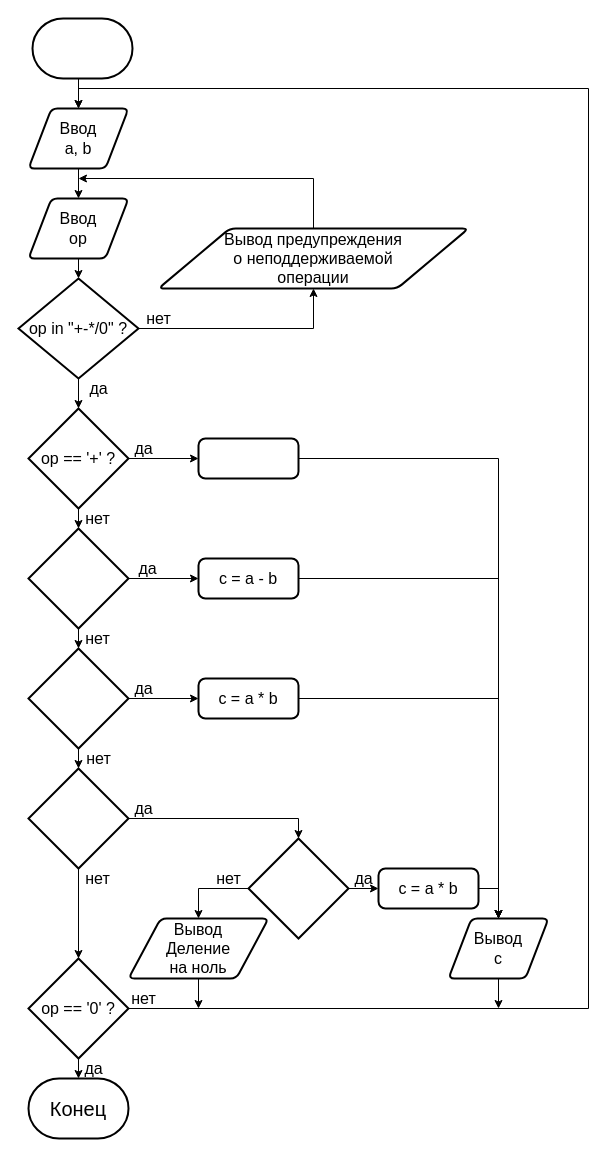
Some shapes in this 614 by 1156 pixel diagram are drawn without their labels. Each missing label, with the centre of its shape:
"b != 0" belongs at point (298, 888).
"c = a + b" belongs at point (248, 458).
"op == '*' ?" belongs at point (78, 698).
"op == '-' ?" belongs at point (78, 578).
"op == '/' ?" belongs at point (78, 818).
"Начало" belongs at point (82, 48).
